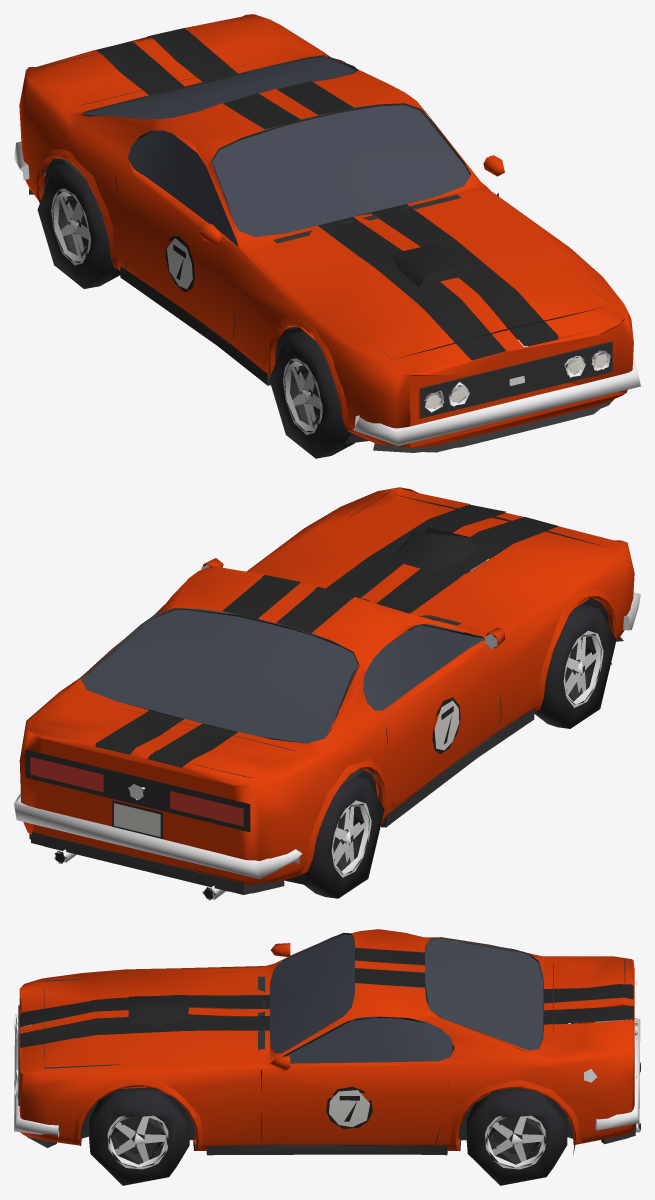
The model's file is car_lo.glb.
The picture shows the model from 3 angles, top to bottom: view 1: azimuth 30°, elevation 25°; view 2: azimuth 150°, elevation 25°; view 3: azimuth 270°, elevation 25°; orthographic projection. The views are drawn at different scales.
Visible parts, largest first — view 1: CAR_paint, CAR_wheel_FR, CAR_wheel_RR; view 2: CAR_paint, CAR_wheel_FR, CAR_wheel_RR; view 3: CAR_paint, CAR_wheel_FL, CAR_wheel_RL.
Boxes of the visible parts, x1,y1,x2,y2 form: CAR_paint: (14,14,640,452); CAR_wheel_FR: (269,331,354,458); CAR_wheel_RR: (37,163,120,288); CAR_paint: (14,487,640,900); CAR_wheel_FR: (534,604,616,728); CAR_wheel_RR: (300,776,384,898); CAR_paint: (14,929,640,1155); CAR_wheel_FL: (88,1086,189,1185); CAR_wheel_RL: (466,1088,567,1185).
Bounding box in the file's own units: 2.01 × 1.33 × 4.49.
